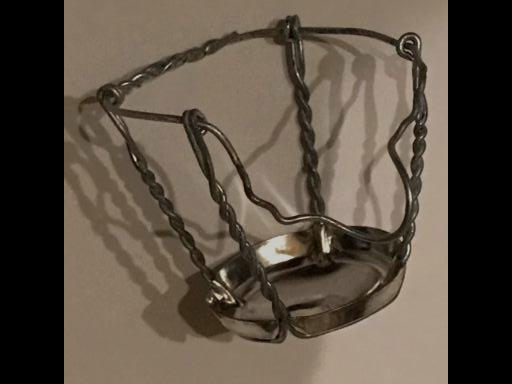metal: (70, 14, 427, 345)
